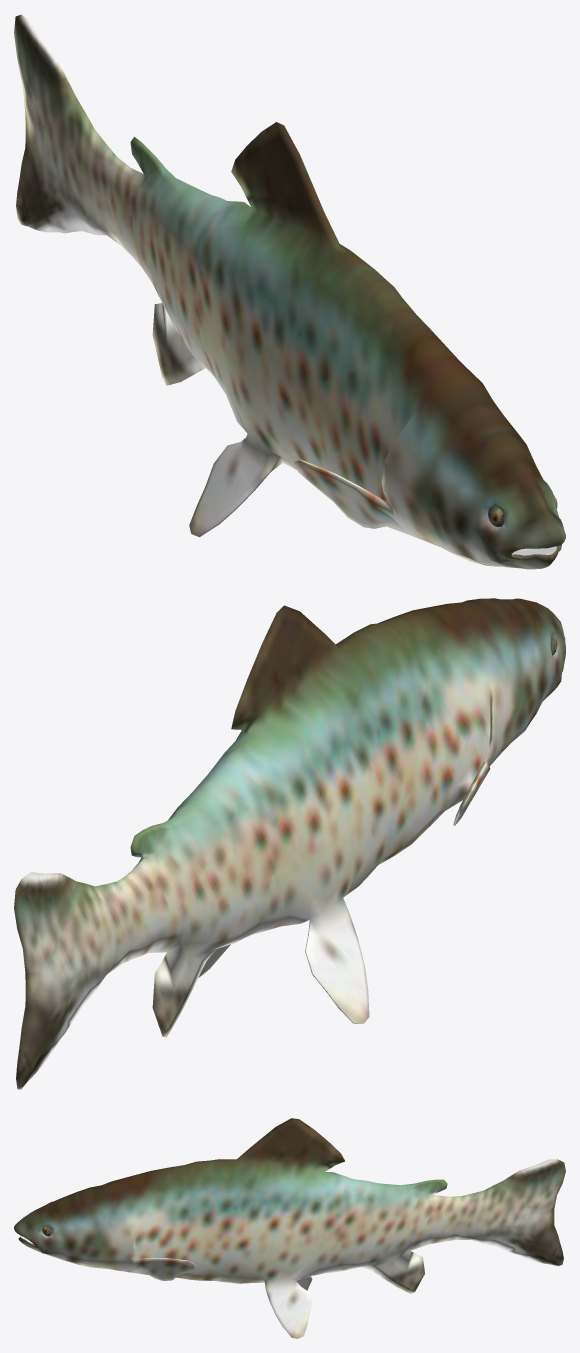
The model's file is Trout.fbx.
3 views of the same model, one above another, from view 1: azimuth 30°, elevation 25°; view 2: azimuth 150°, elevation 25°; view 3: azimuth 270°, elevation 25° (orthographic). The views are drawn at different scales.
Parts seen in each view (by area): view 1: RB_TROUT_rt_body; view 2: RB_TROUT_rt_body; view 3: RB_TROUT_rt_body.
Part boxes in pixels (bbox=[...]): RB_TROUT_rt_body: bbox=[14, 14, 565, 569]; RB_TROUT_rt_body: bbox=[14, 598, 565, 1089]; RB_TROUT_rt_body: bbox=[14, 1118, 565, 1338].
Size of the model in its own units: 0.0723 by 0.1566 by 0.3924.
